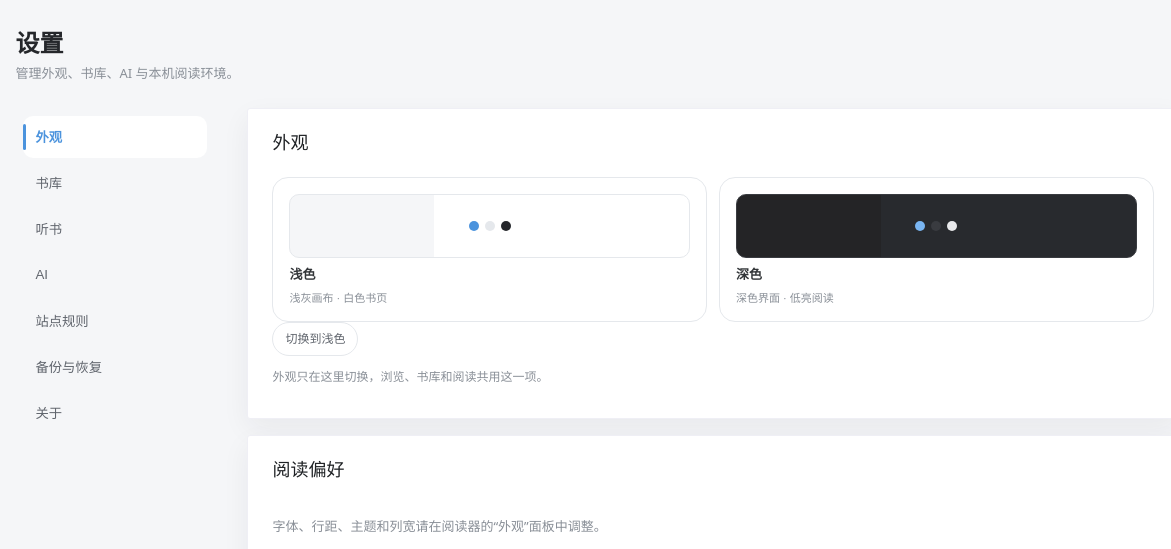
Test: Settings download pace › rolls the selection back and shows the save error
Click the button "书库".
click(115, 183)  # box x1=23 y1=162 x2=207 y2=204
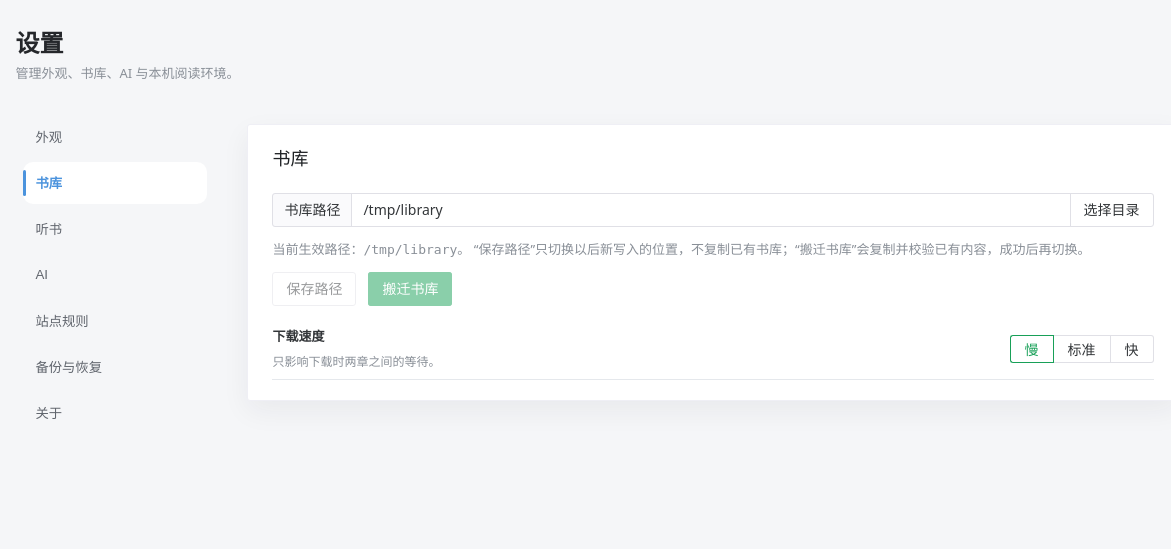
Click the radio button labelled "标准".
click(1082, 349)  # box x1=1054 y1=335 x2=1110 y2=363
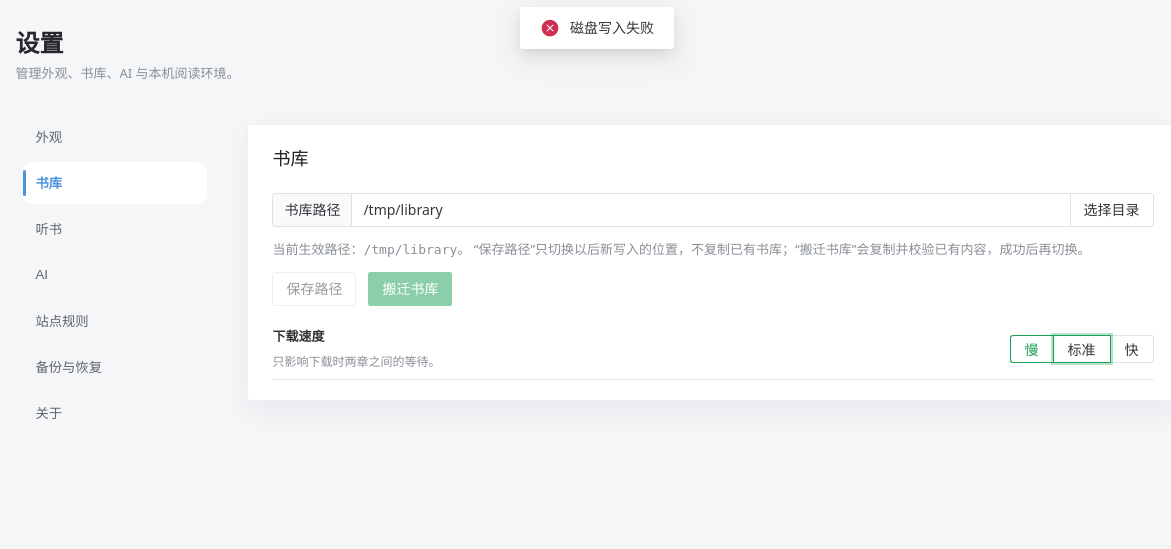
Result: the text "磁盘写入失败" is shown at x1=570 y1=17 x2=654 y2=39
